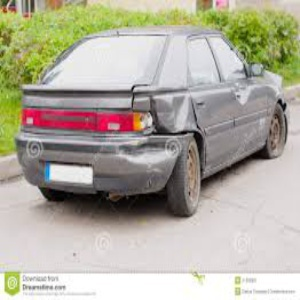bumper: (113, 132, 189, 194)
